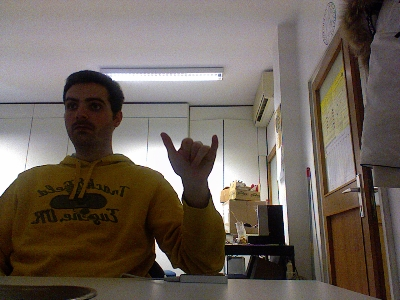六六六: (159, 131, 219, 182)
